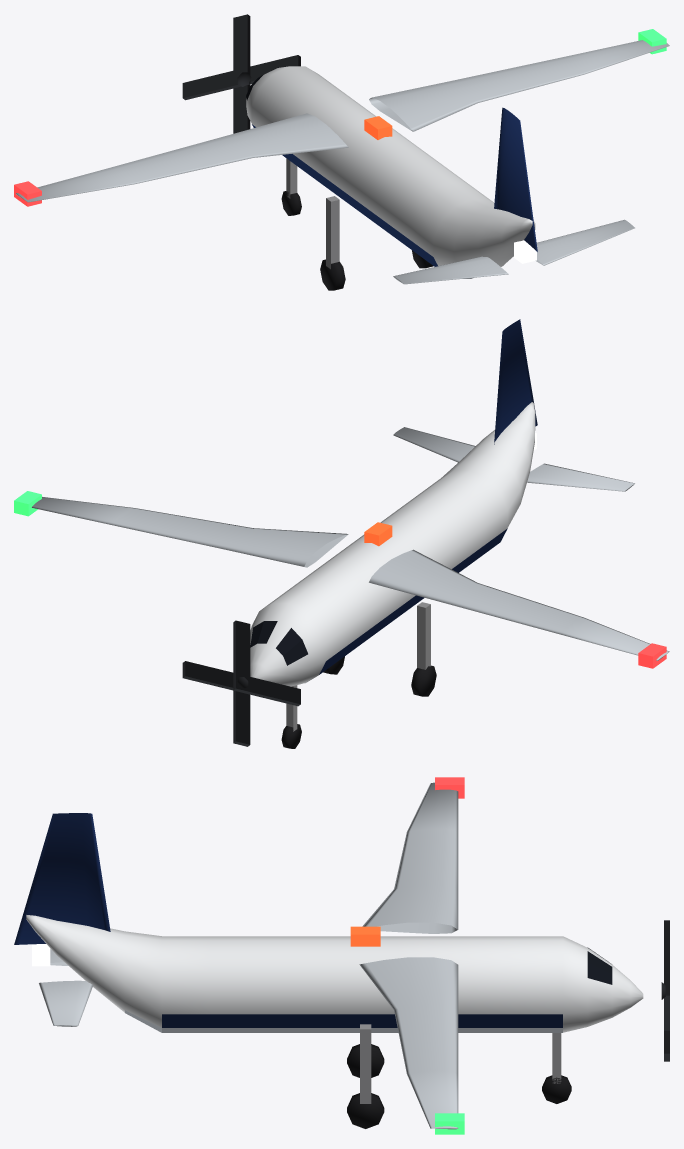
File: fleet_light_lod1.glb
The picture shows the model from 3 angles, top to bottom: view 1: azimuth 30°, elevation 25°; view 2: azimuth 150°, elevation 25°; view 3: azimuth 270°, elevation 25°; orthographic projection. The views are drawn at different scales.
Visible parts, largest first — view 1: fleet_light_lod1_white, fleet_light_lod1_wing, fleet_light_lod1_blue, fleet_light_lod1_dark, fleet_light_lod1_metal, fleet_light_lod1_tyre, fleet_light_lod1_beacon, fleet_light_lod1_nav_red, fleet_light_lod1_nav_white, fleet_light_lod1_nav_green; view 2: fleet_light_lod1_white, fleet_light_lod1_wing, fleet_light_lod1_blue, fleet_light_lod1_dark, fleet_light_lod1_metal, fleet_light_lod1_tyre, fleet_light_lod1_glass; view 3: fleet_light_lod1_white, fleet_light_lod1_wing, fleet_light_lod1_blue, fleet_light_lod1_tyre, fleet_light_lod1_belly, fleet_light_lod1_metal, fleet_light_lod1_dark, fleet_light_lod1_beacon, fleet_light_lod1_glass, fleet_light_lod1_nav_green.
Boxes of the visible parts, <box> form: fleet_light_lod1_white: <box>246,66,535,266</box>; fleet_light_lod1_wing: <box>16,40,669,284</box>; fleet_light_lod1_blue: <box>252,107,537,266</box>; fleet_light_lod1_dark: <box>182,14,300,133</box>; fleet_light_lod1_metal: <box>286,158,339,269</box>; fleet_light_lod1_tyre: <box>281,191,433,290</box>; fleet_light_lod1_beacon: <box>364,116,392,139</box>; fleet_light_lod1_nav_red: <box>14,181,41,206</box>; fleet_light_lod1_nav_white: <box>514,240,536,263</box>; fleet_light_lod1_nav_green: <box>638,29,666,54</box>; fleet_light_lod1_white: <box>250,402,535,686</box>; fleet_light_lod1_wing: <box>32,427,669,660</box>; fleet_light_lod1_blue: <box>319,319,537,674</box>; fleet_light_lod1_dark: <box>182,620,300,746</box>; fleet_light_lod1_metal: <box>286,602,430,731</box>; fleet_light_lod1_tyre: <box>281,656,436,748</box>; fleet_light_lod1_glass: <box>250,621,307,665</box>; fleet_light_lod1_white: <box>26,915,643,1032</box>; fleet_light_lod1_wing: <box>39,782,458,1129</box>; fleet_light_lod1_blue: <box>14,813,562,1027</box>; fleet_light_lod1_tyre: <box>347,1044,571,1128</box>; fleet_light_lod1_belly: <box>125,1010,562,1032</box>; fleet_light_lod1_metal: <box>360,1024,561,1103</box>; fleet_light_lod1_dark: <box>661,920,669,1061</box>; fleet_light_lod1_beacon: <box>350,926,380,946</box>; fleet_light_lod1_glass: <box>587,947,612,984</box>; fleet_light_lod1_nav_green: <box>435,1113,464,1134</box>.
Bounding box in the file's own units: 11 × 4.28 × 8.83.
